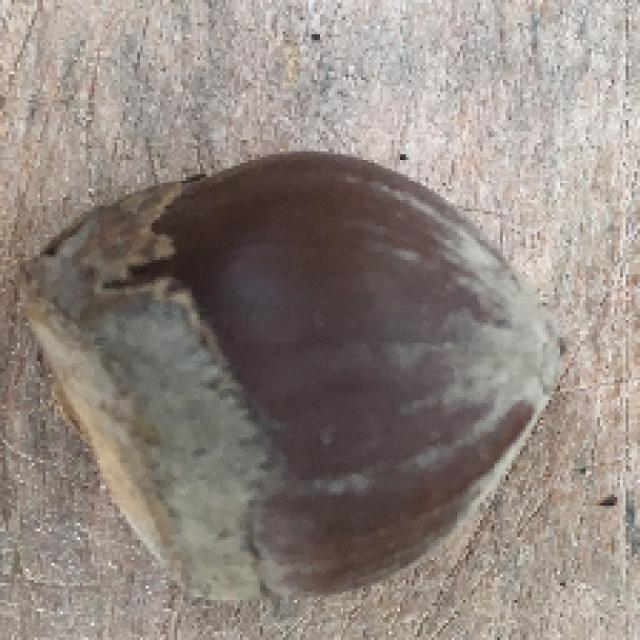damagedHazelnut: (14, 151, 577, 640)
